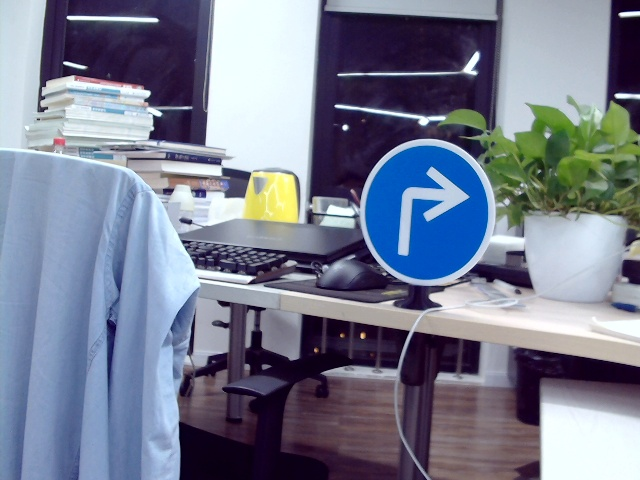turn_right: (396, 165, 466, 259)
